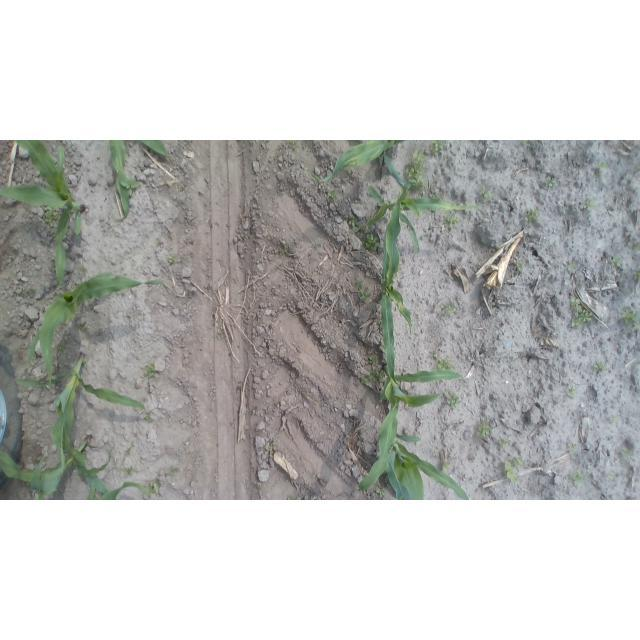Maize: (11, 352, 149, 477), (25, 271, 170, 387), (359, 372, 468, 493), (0, 140, 84, 285), (361, 186, 486, 253), (0, 435, 114, 500), (381, 189, 412, 383), (386, 432, 470, 501), (108, 140, 173, 222), (308, 140, 413, 184), (88, 479, 156, 500)
Weeds: (405, 149, 430, 195), (568, 298, 594, 330), (504, 454, 525, 486), (620, 306, 638, 332), (119, 178, 142, 198), (348, 215, 370, 234), (361, 369, 387, 385), (355, 281, 371, 304), (444, 391, 463, 410), (41, 206, 59, 226), (365, 232, 383, 252), (476, 420, 493, 439), (444, 213, 460, 233), (522, 208, 540, 225), (593, 161, 612, 176), (146, 480, 162, 497), (429, 140, 446, 156), (143, 363, 160, 379), (443, 300, 458, 317), (479, 184, 493, 201), (437, 358, 455, 371), (142, 411, 156, 426), (609, 255, 623, 270), (593, 361, 607, 376), (215, 323, 226, 341), (499, 436, 513, 450), (584, 196, 596, 212), (327, 186, 339, 202), (511, 260, 525, 273), (572, 470, 585, 484), (566, 261, 579, 274), (567, 441, 579, 454), (168, 464, 181, 476), (376, 486, 388, 499), (622, 446, 635, 458), (567, 383, 578, 397), (124, 466, 136, 478), (543, 176, 557, 186), (125, 443, 135, 457), (367, 354, 379, 365), (267, 441, 278, 453), (79, 266, 90, 277), (278, 244, 288, 256), (58, 342, 67, 355), (168, 253, 178, 264), (520, 141, 532, 150), (253, 480, 263, 490), (25, 288, 36, 297), (443, 460, 451, 472), (289, 140, 299, 149), (251, 408, 259, 419), (155, 237, 163, 248), (608, 472, 617, 481), (178, 184, 187, 193), (430, 348, 438, 358), (632, 269, 638, 281), (609, 414, 618, 422), (287, 494, 298, 500), (635, 163, 640, 173), (76, 324, 84, 329), (635, 242, 640, 250)
